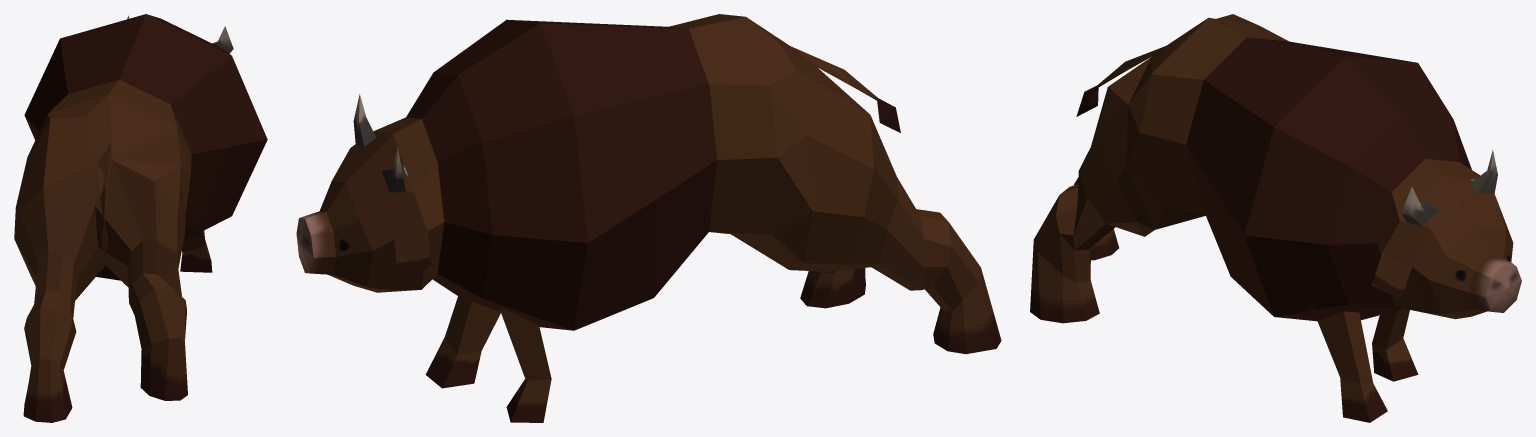
The model's file is bison.gltf.
3 views of the same model, side by side, from view 1: azimuth 30°, elevation 25°; view 2: azimuth 150°, elevation 25°; view 3: azimuth 270°, elevation 25° (orthographic). The views are drawn at different scales.
Parts seen in each view (by area): view 1: bison; view 2: bison; view 3: bison.
Boxes of the visible parts, x1,y1,x2,y2 form: bison: [14, 14, 267, 422]; bison: [296, 14, 1001, 422]; bison: [1030, 14, 1521, 422].
Size of the model in its own units: 4.78 by 3.53 by 4.85.
1 material, 1 textured.
